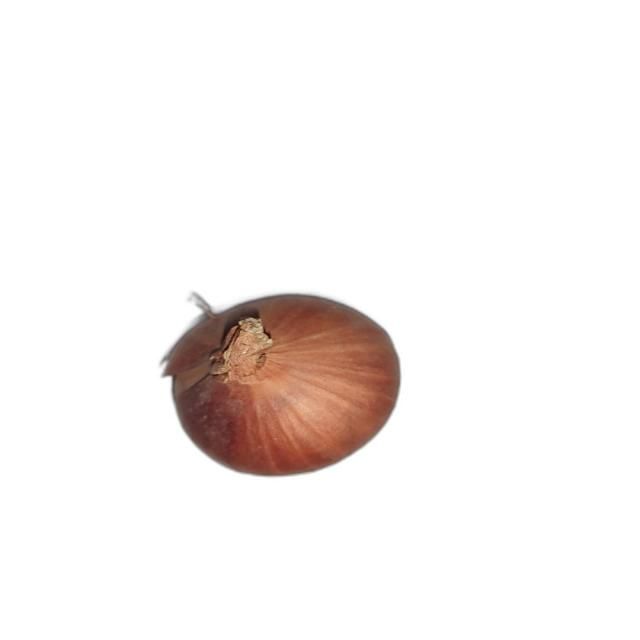onion: (158, 287, 402, 479)
